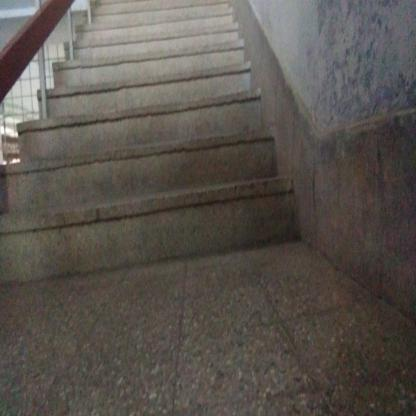stairs: (63, 68, 247, 298)
